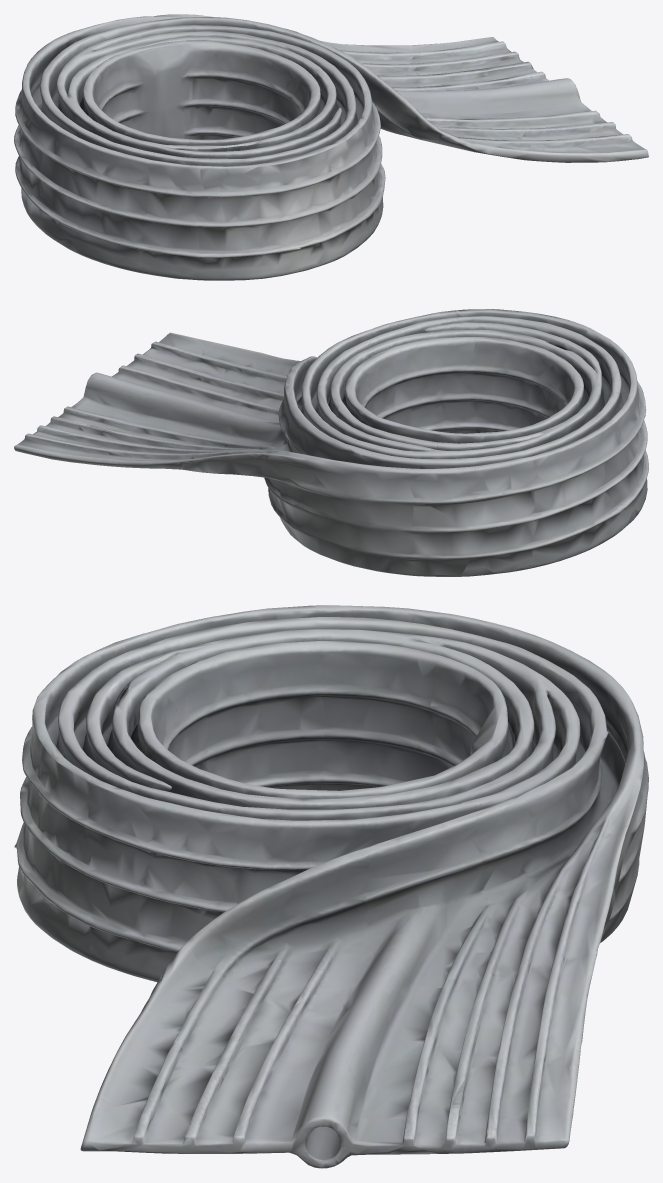
Rendered from yhwaterstop-pvc.glb.
3 views of the same model, one above another, from view 1: azimuth 30°, elevation 25°; view 2: azimuth 150°, elevation 25°; view 3: azimuth 270°, elevation 25° (orthographic). The views are drawn at different scales.
Visible parts, largest first — view 1: tripo_node_d51a55b2-cecc-4c73-800c-46a1dbae025f; view 2: tripo_node_d51a55b2-cecc-4c73-800c-46a1dbae025f; view 3: tripo_node_d51a55b2-cecc-4c73-800c-46a1dbae025f.
Boxes of the visible parts, bbox=[...] form: tripo_node_d51a55b2-cecc-4c73-800c-46a1dbae025f: bbox=[14, 14, 648, 280]; tripo_node_d51a55b2-cecc-4c73-800c-46a1dbae025f: bbox=[14, 309, 648, 576]; tripo_node_d51a55b2-cecc-4c73-800c-46a1dbae025f: bbox=[14, 605, 648, 1168].
Bounding box in the file's own units: 0.9997 × 0.2084 × 0.6699.
1 material, 1 textured.
